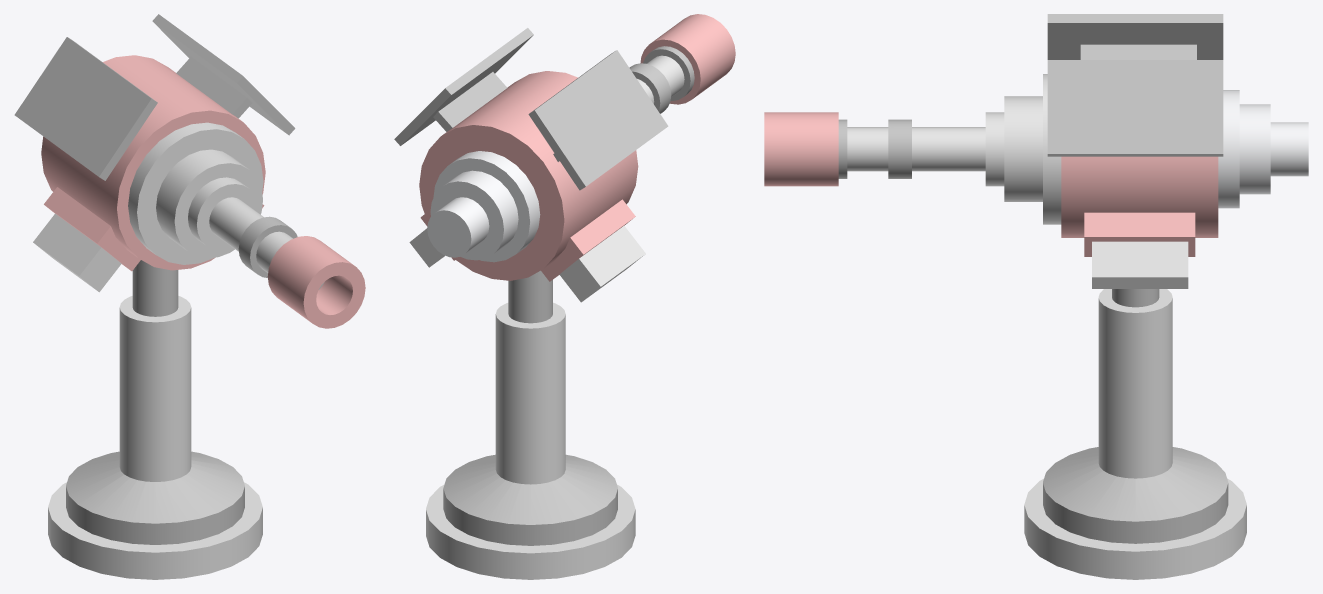
Rendered from Turret.fbx.
The picture shows the model from 3 angles, left to right: view 1: azimuth 30°, elevation 25°; view 2: azimuth 150°, elevation 25°; view 3: azimuth 270°, elevation 25°; orthographic projection. The views are drawn at different scales.
Parts seen in each view (by area): view 1: Turret.001, Turret.002; view 2: Turret.001, Turret.002; view 3: Turret.001, Turret.002.
Boxes of the visible parts, <box> form: Turret.001: <box>14,14,365,328</box>; Turret.002: <box>48,260,262,579</box>; Turret.001: <box>394,14,735,302</box>; Turret.002: <box>426,270,635,579</box>; Turret.001: <box>764,14,1308,288</box>; Turret.002: <box>1024,289,1246,579</box>.
Size of the model in its own units: 63.76 by 147 by 147.
